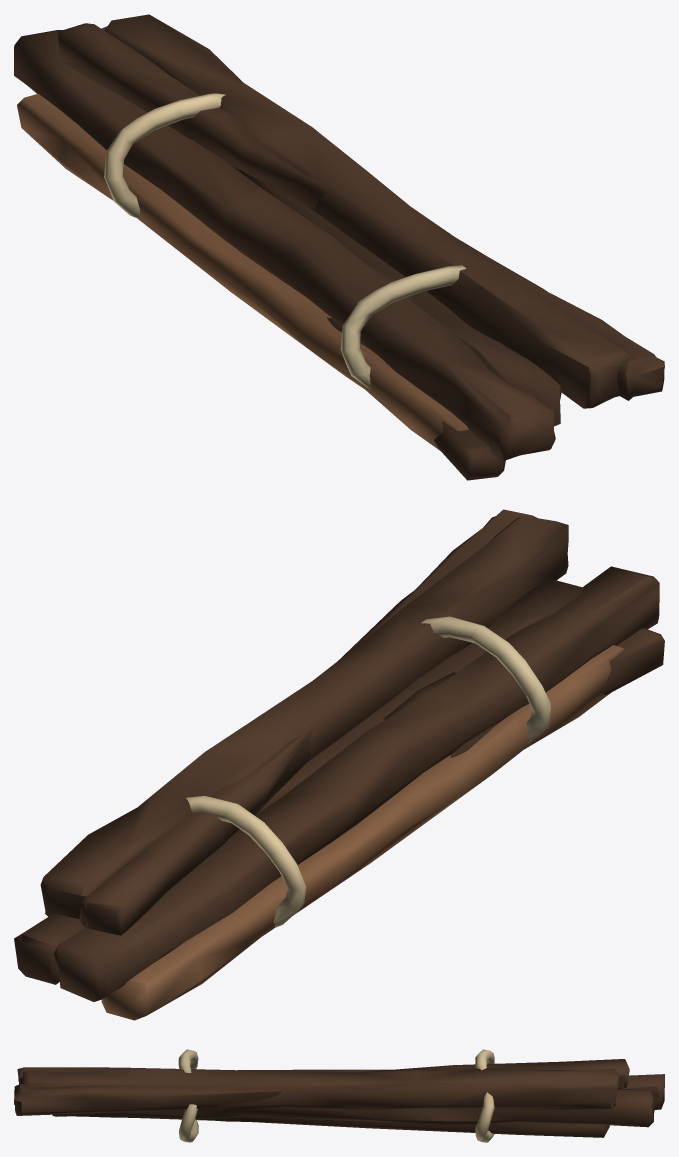
The model's file is ember_kindling_lod1.glb.
The picture shows the model from 3 angles, top to bottom: view 1: azimuth 30°, elevation 25°; view 2: azimuth 150°, elevation 25°; view 3: azimuth 270°, elevation 25°; orthographic projection. The views are drawn at different scales.
Visible parts, largest first — view 1: ember_kindling.001; view 2: ember_kindling.001; view 3: ember_kindling.001.
Boxes of the visible parts, bbox=[...] form: ember_kindling.001: bbox=[14, 14, 664, 480]; ember_kindling.001: bbox=[14, 509, 664, 1020]; ember_kindling.001: bbox=[14, 1049, 664, 1142].
Size of the model in its own units: 4.61 by 2.85 by 21.96.
